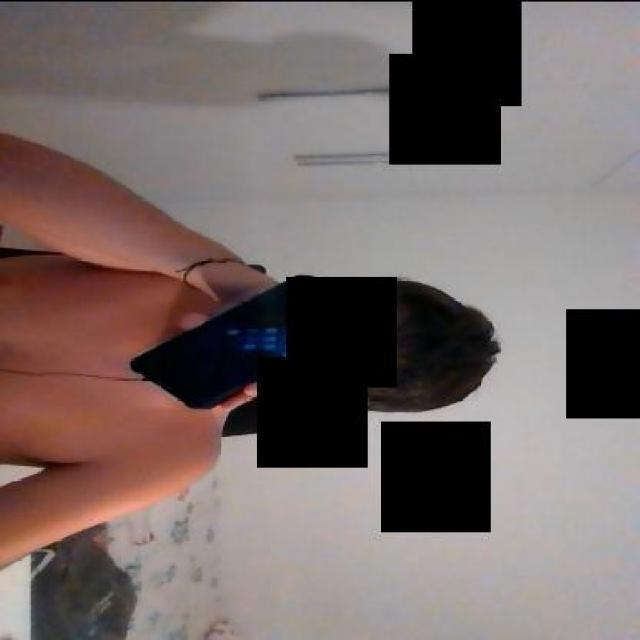phone: (124, 271, 376, 411)
